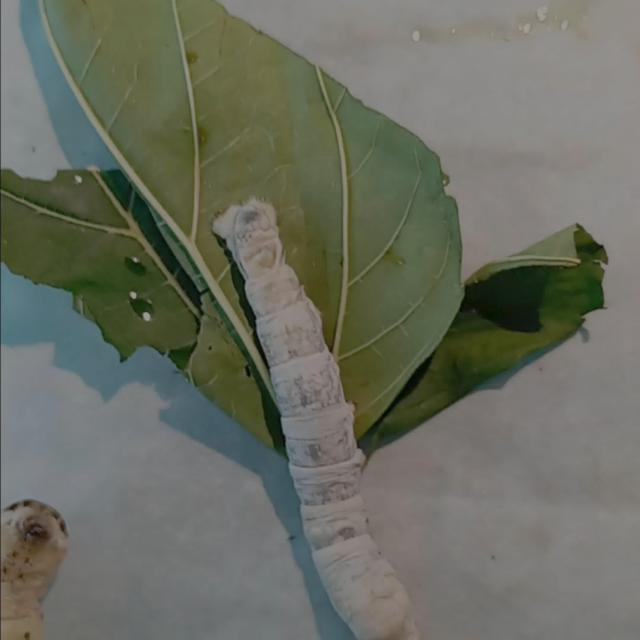Grasserie: (187, 172, 450, 640)
